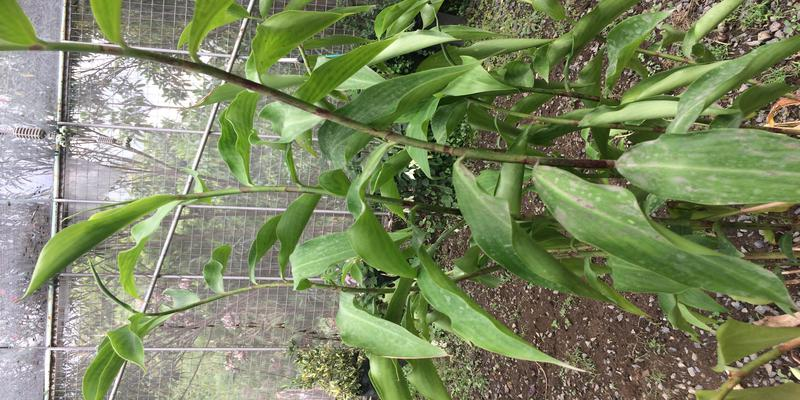Insulin: (192, 13, 785, 318)
